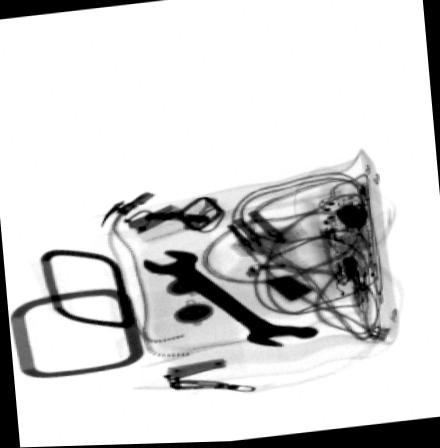Wrench: (137, 249, 307, 349)
